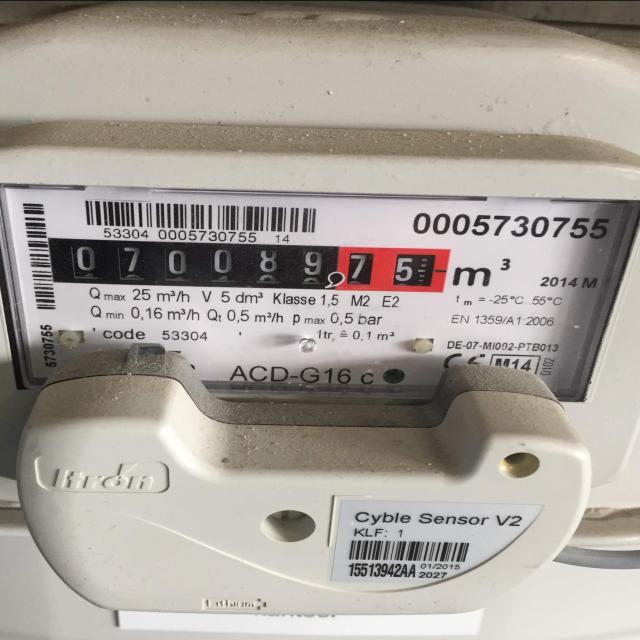gaz_meter: (0, 184, 637, 410)
indication: (58, 237, 441, 288)
